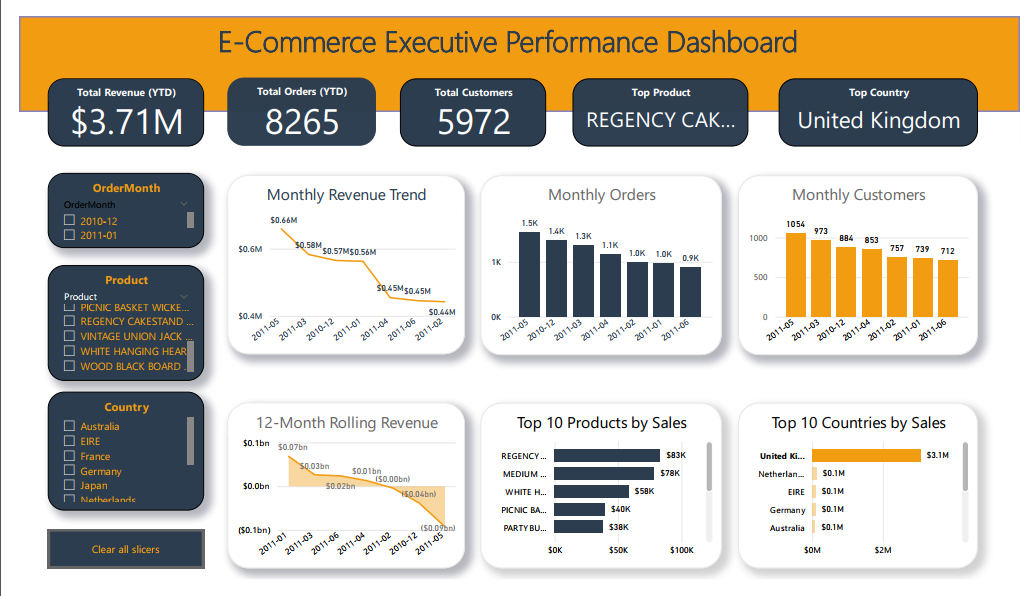

The dashboard page shown, as its layout file describes it:
{"tool":"powerbi","page":{"name":"Page 1","canvas":[1280,720],"ordinal":0},"visuals":[{"type":"shape","box":[0,0,1280,121],"z":0},{"type":"card","title":"Total Revenue (YTD)","fields":{"Values":["Sum(MonthlyRevenue.TotalRevenue)"]},"box":[35.6,78.9,200,86.7],"z":1000},{"type":"card","title":"Total Orders (YTD)","fields":{"Values":["Sum(MonthlyOrders.TotalOrders)"]},"box":[265.8,78.3,190,86.7],"z":2000},{"type":"card","title":" Top Product","fields":{"Values":["Min(TopProducts.Product)"]},"box":[708.5,79.2,224.6,86.4],"z":3000},{"type":"card","title":" Top Country","fields":{"Values":["Min(TopCountries.Country)"]},"box":[972,79.2,254.9,86.4],"z":4000},{"type":"card","title":"Total Customers","fields":{"Values":["Sum(MonthlyCustomers.TotalCustomers)"]},"box":[486.7,79.2,187.2,86.4],"z":5000},{"type":"lineChart","title":"Monthly Revenue Trend","fields":{"Category":["MonthlyRevenue.OrderMonth"],"Y":["Sum(MonthlyRevenue.Total Revenue (YTD)"]},"box":[266.4,203,303.8,229],"z":6000},{"type":"clusteredColumnChart","title":"Monthly Orders","fields":{"Category":["MonthlyOrders.OrderMonth"],"Y":["Sum(MonthlyOrders.TotalOrders)"]},"box":[590.4,203,308.2,230.4],"z":7000},{"type":"clusteredColumnChart","title":"Monthly Customers","fields":{"Category":["MonthlyCustomers.OrderMonth"],"Y":["Sum(MonthlyCustomers.TotalCustomers)"]},"box":[920.2,203,306.7,230.4],"z":8000},{"type":"lineChart","title":"12-Month Rolling Revenue","fields":{"Category":["RollingRevenue.Month"],"Y":["Sum(RollingRevenue.RollingRevenue)"]},"box":[266.4,493.9,303.8,211.7],"z":9000},{"type":"clusteredBarChart","title":"Top 10 Products by Sales","fields":{"Category":["TopProducts.Product"],"Y":["Sum(TopProducts.TotalSales)"]},"box":[590.4,493.9,308.2,211.7],"z":10000},{"type":"clusteredBarChart","title":"Top 10 Countries by Sales","fields":{"Category":["TopCountries.Country"],"Y":["Sum(TopCountries.TotalSales)"]},"box":[920.2,493.9,306.7,211.7],"z":11000},{"type":"slicer","title":"OrderMonth","fields":{"Values":["MonthlyRevenue.OrderMonth"]},"box":[36,200,200,96],"z":12000},{"type":"slicer","title":"Product","fields":{"Values":["TopProducts.Product"]},"box":[36,318,200,148],"z":13000},{"type":"slicer","title":"Country","fields":{"Values":["TopCountries.Country"]},"box":[36,480,200,152],"z":14000},{"type":"actionButton","box":[35.8,655.8,200,50],"z":15000},{"type":"textbox","box":[177.1,0,897.1,80.6],"z":15001}]}

Visuals, with their boxes in screenshot pixels (x1, y1, x2, y2), scaled from the page's 1280x720 canvas onto the 1034x596 screenshot:
shape: Rect(0, 0, 1033, 100)
"Total Revenue (YTD)" card: Rect(29, 65, 190, 137)
"Total Orders (YTD)" card: Rect(215, 65, 368, 137)
" Top Product" card: Rect(572, 66, 754, 137)
" Top Country" card: Rect(785, 66, 991, 137)
"Total Customers" card: Rect(393, 66, 544, 137)
"Monthly Revenue Trend" lineChart: Rect(215, 168, 461, 358)
"Monthly Orders" clusteredColumnChart: Rect(477, 168, 726, 359)
"Monthly Customers" clusteredColumnChart: Rect(743, 168, 991, 359)
"12-Month Rolling Revenue" lineChart: Rect(215, 409, 461, 584)
"Top 10 Products by Sales" clusteredBarChart: Rect(477, 409, 726, 584)
"Top 10 Countries by Sales" clusteredBarChart: Rect(743, 409, 991, 584)
"OrderMonth" slicer: Rect(29, 166, 191, 245)
"Product" slicer: Rect(29, 263, 191, 386)
"Country" slicer: Rect(29, 397, 191, 523)
actionButton: Rect(29, 543, 190, 584)
textbox: Rect(143, 0, 868, 67)
